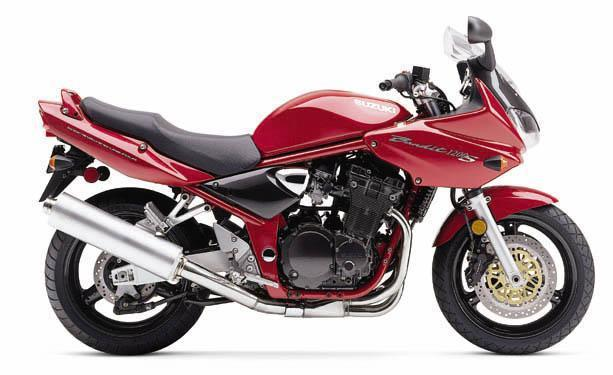motorcycle: (8, 10, 607, 366)
